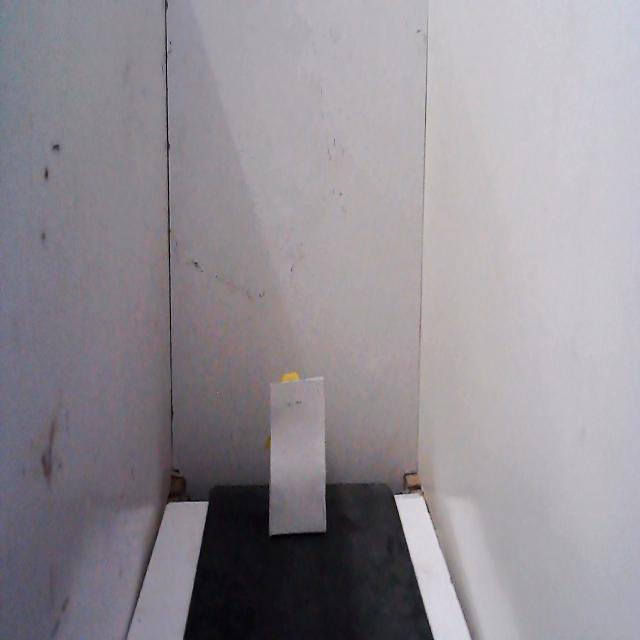papel: (262, 362, 334, 546)
